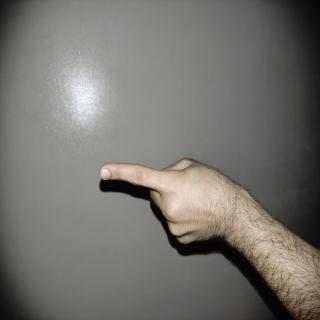BAA: (55, 122, 124, 320)
